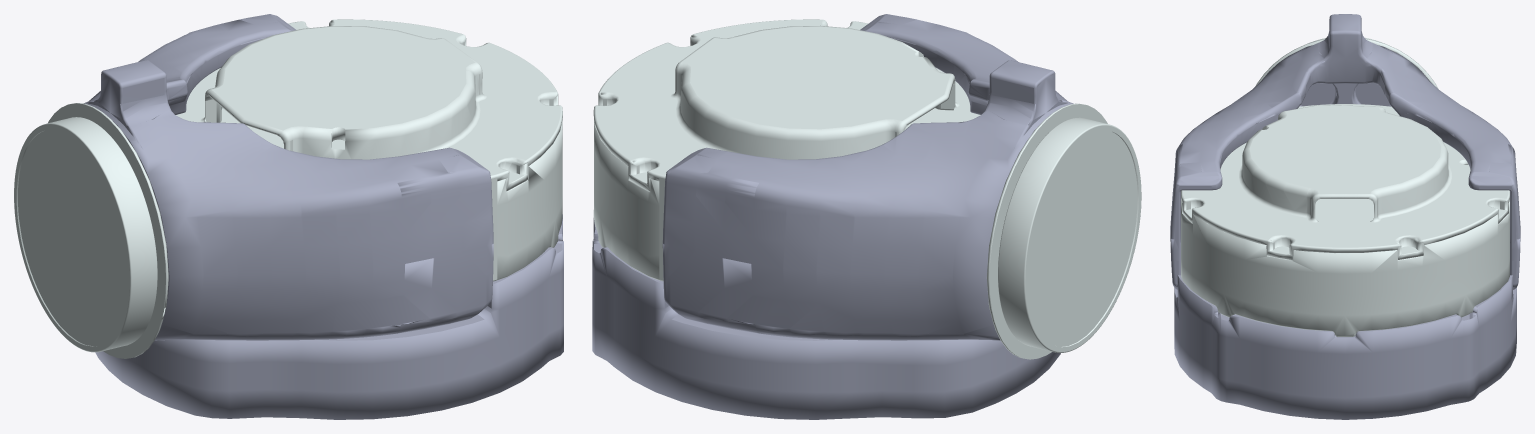
The model's file is FR_hip.obj.
3 views of the same model, side by side, from view 1: azimuth 30°, elevation 25°; view 2: azimuth 150°, elevation 25°; view 3: azimuth 270°, elevation 25° (orthographic). The views are drawn at different scales.
Visible parts, largest first — view 1: FR_hip; view 2: FR_hip; view 3: FR_hip.
Boxes of the visible parts, x1,y1,x2,y2 form: FR_hip: [14, 14, 563, 419]; FR_hip: [592, 14, 1141, 419]; FR_hip: [1170, 14, 1520, 419].
Bounding box in the file's own units: 0.1181 × 0.0756 × 0.0985.
